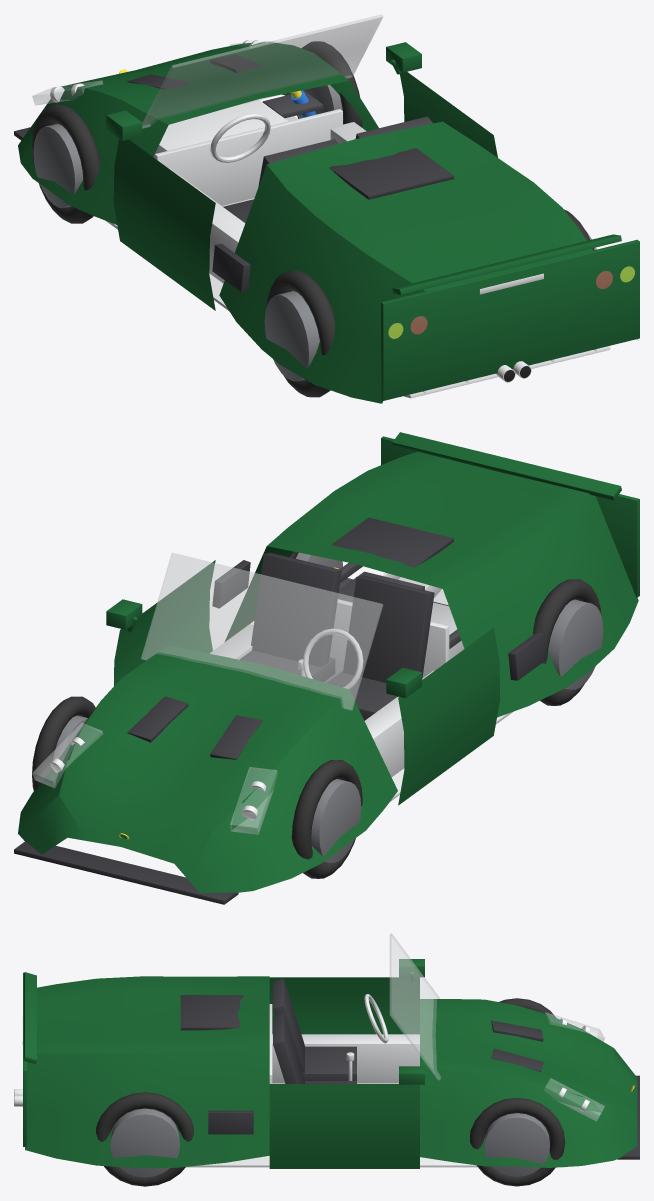
The model's file is Car_Lotus_Elise_S2_Complete.glb.
3 views of the same model, one above another, from view 1: azimuth 30°, elevation 25°; view 2: azimuth 150°, elevation 25°; view 3: azimuth 270°, elevation 25° (orthographic). The views are drawn at different scales.
Parts seen in each view (by area): view 1: GEO_Elise_Rear_Composite_Clamshell, GEO_Elise_Rear_Transom_Bumper_Bulkhead, GEO_Elise_Front_Composite_Clamshell, GEO_Elise_Composite_Lightweight_Doors, GEO_Elise_Windshield_Safety_Glass, GEO_Elise_Bonded_Extruded_Aluminum_Tub, GEO_Elise_Front_175_55R16_Advan_Tires, GEO_Elise_Engine_Bay_Cooling_Louvers, GEO_Elise_Front_16in_Lightweight_Alloy_Rims, GEO_Elise_Rear_17in_Lightweight_Alloy_Rims, GEO_Elise_Front_Composite_Crash_Structure, GEO_Elise_Rear_225_45R17_Advan_Tires (+9 smaller); view 2: GEO_Elise_Front_Composite_Clamshell, GEO_Elise_Rear_Composite_Clamshell, GEO_Elise_Windshield_Safety_Glass, GEO_Elise_Composite_Track_Bucket_Seats, GEO_Elise_Composite_Lightweight_Doors, GEO_Elise_Front_175_55R16_Advan_Tires, GEO_Elise_Integrated_Ducktail_Lip_Spoiler, GEO_Elise_Insectoid_Headlamp_Polycarbonate_Covers, GEO_Elise_Rear_17in_Lightweight_Alloy_Rims, GEO_Elise_Front_Aerodynamic_Chin_Splitter, GEO_Elise_Front_16in_Lightweight_Alloy_Rims, GEO_Elise_Engine_Bay_Cooling_Louvers (+9 smaller); view 3: GEO_Elise_Rear_Composite_Clamshell, GEO_Elise_Front_Composite_Clamshell, GEO_Elise_Composite_Lightweight_Doors, GEO_Elise_Composite_Track_Bucket_Seats, GEO_Elise_Windshield_Safety_Glass, GEO_Elise_Bonded_Extruded_Aluminum_Tub, GEO_Elise_Front_175_55R16_Advan_Tires, GEO_Elise_Rear_17in_Lightweight_Alloy_Rims, GEO_Elise_Front_16in_Lightweight_Alloy_Rims, GEO_Elise_Rear_225_45R17_Advan_Tires, GEO_Elise_Engine_Bay_Cooling_Louvers, GEO_Elise_Insectoid_Headlamp_Polycarbonate_Covers (+8 smaller).
Part boxes in pixels (x1,y1,x2,y2): GEO_Elise_Rear_Composite_Clamshell: (219,121,638,403); GEO_Elise_Rear_Transom_Bumper_Bulkhead: (381,239,639,400); GEO_Elise_Front_Composite_Clamshell: (18,42,378,224); GEO_Elise_Composite_Lightweight_Doors: (113,72,497,310); GEO_Elise_Windshield_Safety_Glass: (142,14,383,128); GEO_Elise_Bonded_Extruded_Aluminum_Tub: (154,109,366,283); GEO_Elise_Front_175_55R16_Advan_Tires: (32,41,362,223); GEO_Elise_Engine_Bay_Cooling_Louvers: (329,148,453,199); GEO_Elise_Front_16in_Lightweight_Alloy_Rims: (33,84,343,207); GEO_Elise_Rear_17in_Lightweight_Alloy_Rims: (264,231,596,381); GEO_Elise_Front_Composite_Crash_Structure: (153,99,288,157); GEO_Elise_Rear_225_45R17_Advan_Tires: (266,209,594,397); GEO_Elise_Front_Composite_Clamshell: (18,645,397,892); GEO_Elise_Rear_Composite_Clamshell: (225,451,638,717); GEO_Elise_Windshield_Safety_Glass: (141,552,382,710); GEO_Elise_Composite_Track_Bucket_Seats: (240,552,434,720); GEO_Elise_Composite_Lightweight_Doors: (114,560,500,805); GEO_Elise_Front_175_55R16_Advan_Tires: (32,696,362,878); GEO_Elise_Integrated_Ducktail_Lip_Spoiler: (392,432,621,500); GEO_Elise_Insectoid_Headlamp_Polycarbonate_Covers: (32,723,277,834); GEO_Elise_Rear_17in_Lightweight_Alloy_Rims: (296,552,603,689); GEO_Elise_Front_Aerodynamic_Chin_Splitter: (14,841,238,904); GEO_Elise_Front_16in_Lightweight_Alloy_Rims: (53,715,361,862); GEO_Elise_Engine_Bay_Cooling_Louvers: (331,517,453,567); GEO_Elise_Rear_Composite_Clamshell: (25,976,269,1168); GEO_Elise_Front_Composite_Clamshell: (420,999,637,1167); GEO_Elise_Composite_Lightweight_Doors: (269,977,419,1168); GEO_Elise_Composite_Track_Bucket_Seats: (273,978,356,1083); GEO_Elise_Windshield_Safety_Glass: (389,933,440,1080); GEO_Elise_Bonded_Extruded_Aluminum_Tub: (272,1034,419,1083); GEO_Elise_Front_175_55R16_Advan_Tires: (470,998,565,1186); GEO_Elise_Rear_17in_Lightweight_Alloy_Rims: (110,1108,179,1177); GEO_Elise_Front_16in_Lightweight_Alloy_Rims: (484,1113,549,1176); GEO_Elise_Rear_225_45R17_Advan_Tires: (96,1092,193,1186); GEO_Elise_Engine_Bay_Cooling_Louvers: (180,995,243,1030); GEO_Elise_Insectoid_Headlamp_Polycarbonate_Covers: (544,1012,604,1121).
Bounding box in the file's own units: 1.72 × 1.11 × 3.87.
